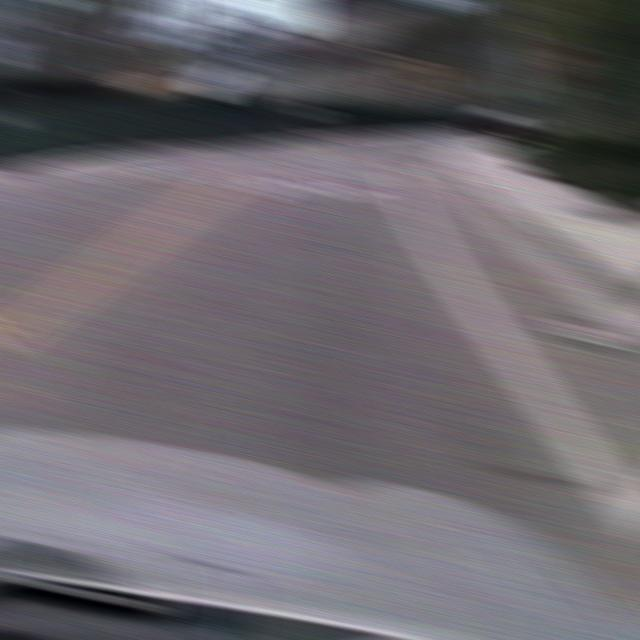stop: (543, 39, 592, 86)
